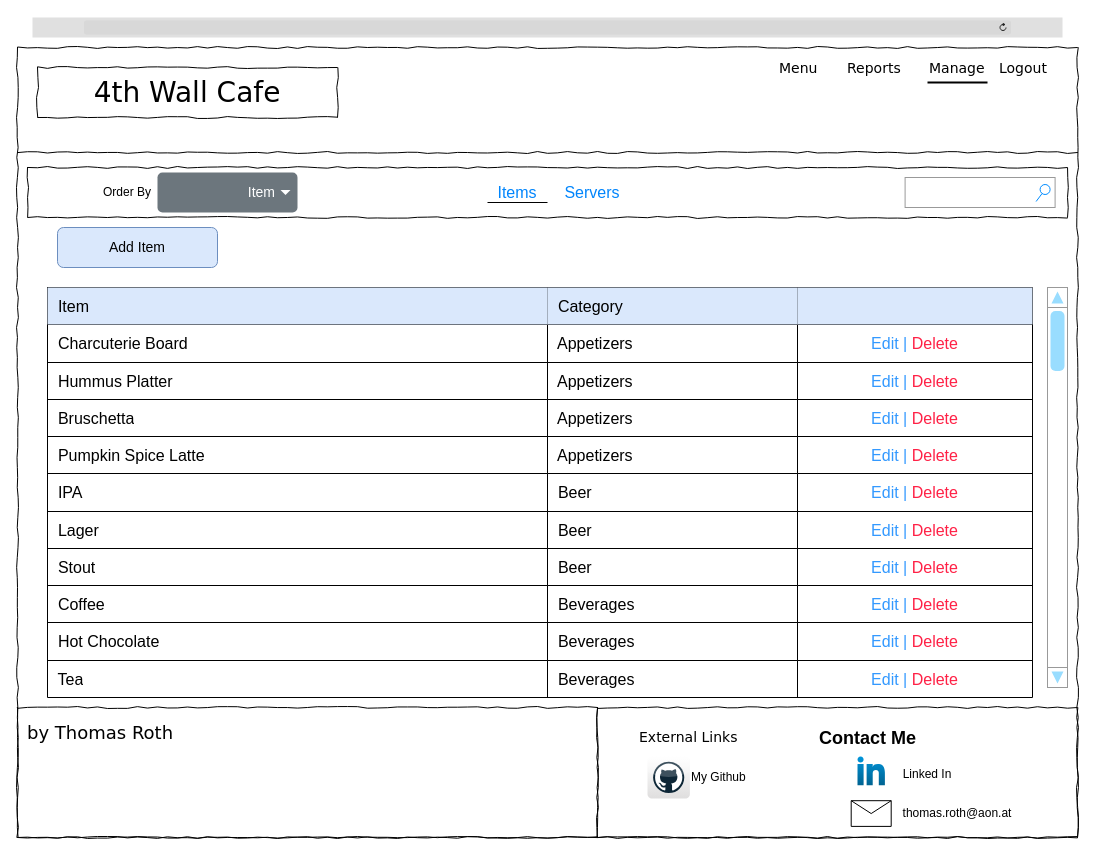
The diagram is 1095 pixels wide and 855 high, and some of its shapes have lost their labels. The centre of each missing label's shape, as x and y in pixels:
4thWallCafe/Manage/Items: pixel 547 27
Search: pixel 979 192
